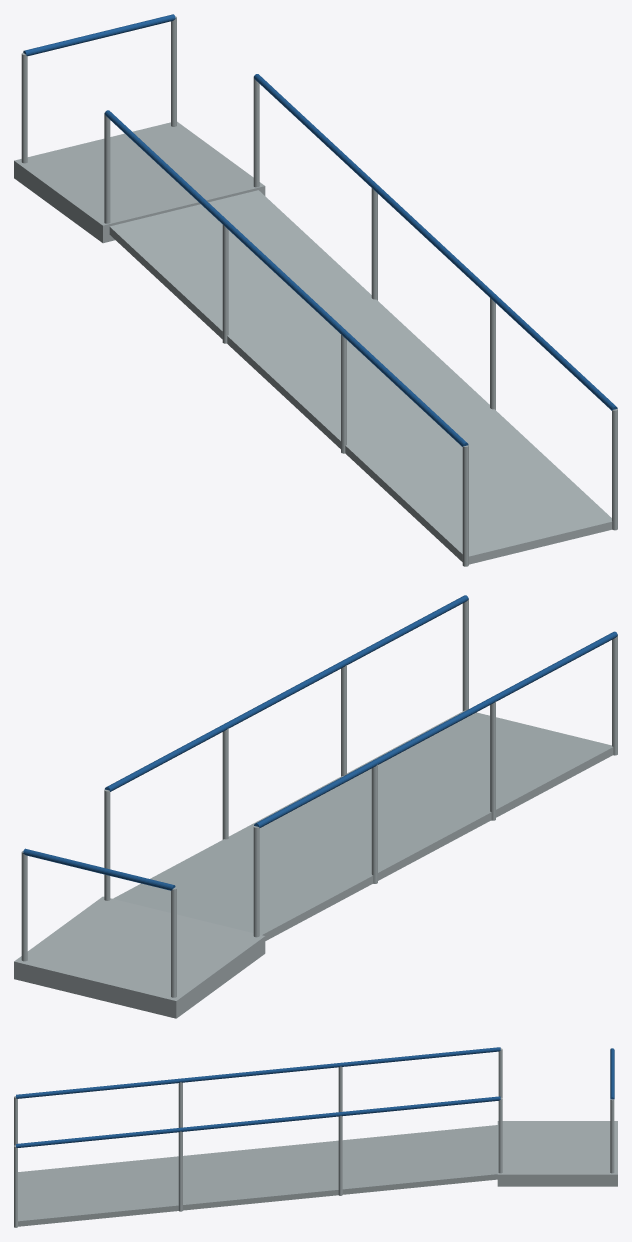
The model's file is scendance-plan-accessible-ramp.glb.
3 views of the same model, one above another, from view 1: azimuth 30°, elevation 25°; view 2: azimuth 150°, elevation 25°; view 3: azimuth 270°, elevation 25° (orthographic). The views are drawn at different scales.
Size of the model in its own units: 1.35 by 1.53 by 6.43.
